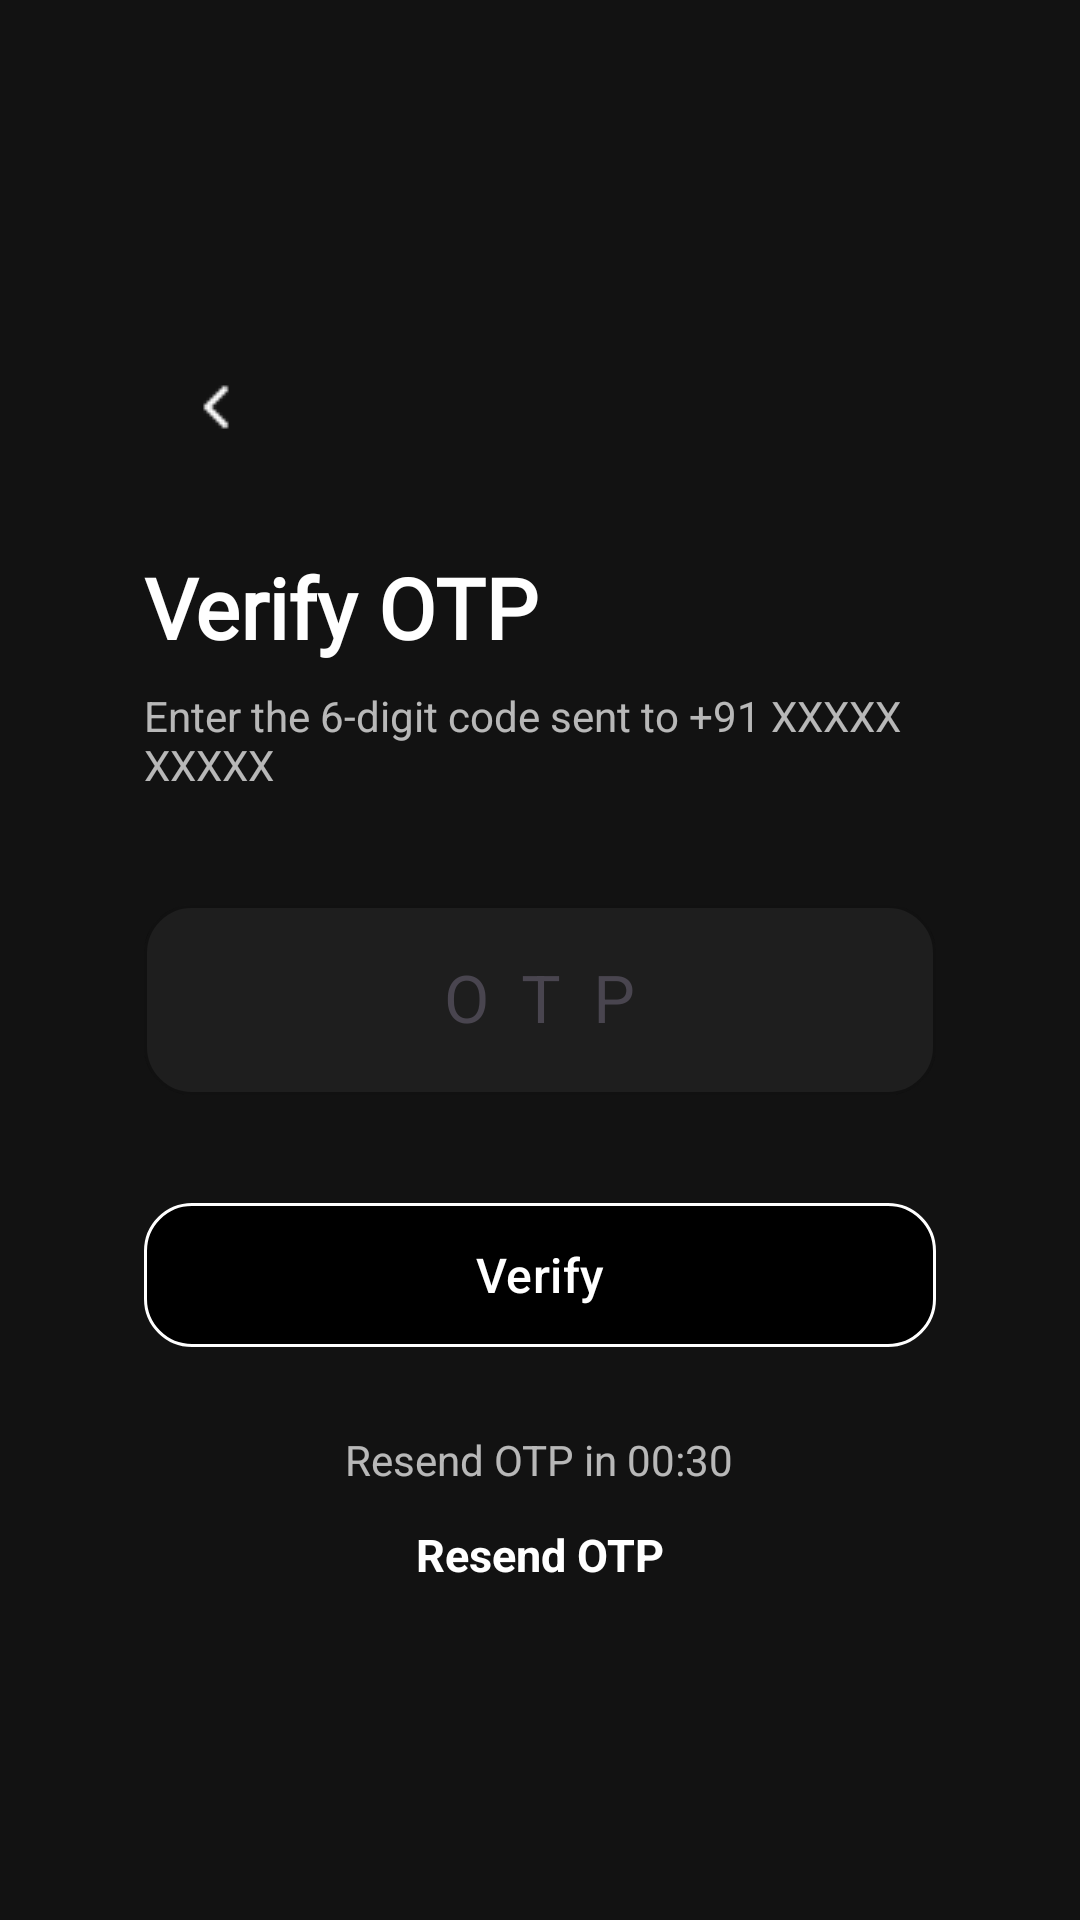

Named icons in this screenshot (1080px×1920px) and their bounding boxes, (x1, y1, x2, y2):
Back: (203, 385, 229, 429)
